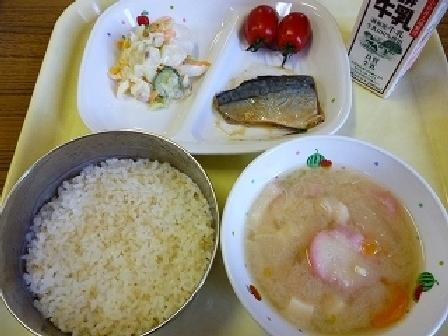Cherry tomatoes: (238, 7, 315, 58)
Fish: (216, 66, 326, 142)
Milk: (339, 1, 445, 90)
Rice: (0, 127, 220, 335)
Salad: (99, 8, 202, 112)
Soups: (225, 139, 448, 336)
